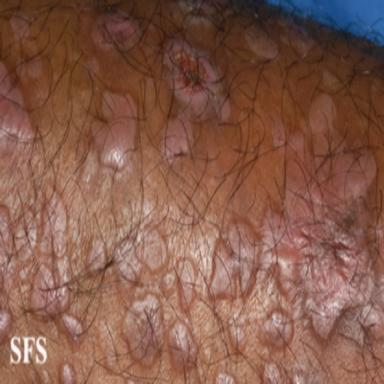Epidermolysis-Bullosa-Pruriginosa: (210, 93, 384, 339), (163, 38, 229, 163), (92, 91, 137, 169), (0, 61, 34, 156), (0, 206, 37, 288), (124, 294, 163, 365), (115, 229, 166, 282), (41, 192, 68, 282), (31, 264, 71, 316), (275, 10, 317, 58), (93, 13, 142, 51), (169, 320, 197, 370), (260, 311, 293, 347), (245, 25, 278, 60), (359, 303, 384, 340), (177, 259, 195, 309), (177, 0, 216, 22), (60, 314, 83, 344), (87, 239, 107, 272), (16, 56, 43, 79), (229, 323, 245, 351), (263, 362, 283, 384), (272, 117, 286, 148), (0, 309, 12, 344), (11, 17, 29, 40), (60, 362, 76, 383), (215, 372, 235, 384), (163, 272, 175, 292), (11, 337, 20, 362), (107, 350, 116, 367)
